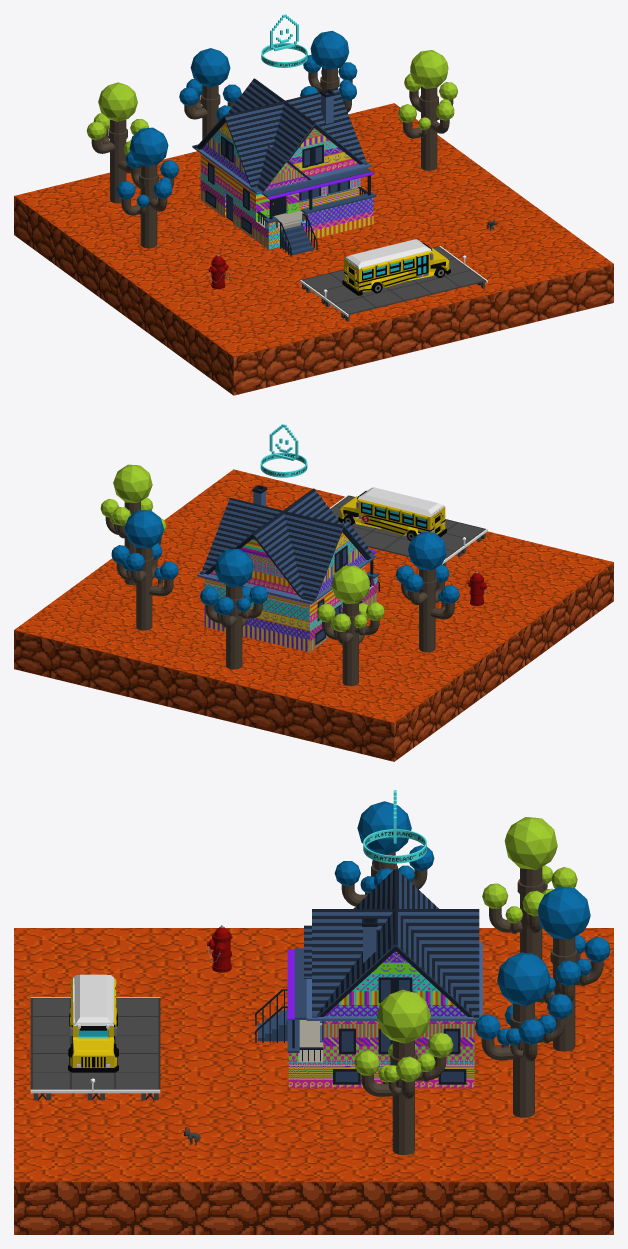
3 renders of one model, top to bottom at view 1: azimuth 30°, elevation 25°; view 2: azimuth 150°, elevation 25°; view 3: azimuth 270°, elevation 25°, orthographic. The views are drawn at different scales.
Visible parts, largest first — view 1: Cube.001, Cube.676, VEHICLES_SCHOOL_BUS, TYPE_PREMIUM; view 2: Cube.001, Cube.676, VEHICLES_SCHOOL_BUS, TYPE_PREMIUM, OBJRANDOM_FIRE_HYDRANT; view 3: Cube.001, Cube.676, VEHICLES_SCHOOL_BUS, TYPE_PREMIUM, OBJRANDOM_FIRE_HYDRANT.
Boxes of the visible parts, x1,y1,x2,y2 form: Cube.001: (14,30,613,395); Cube.676: (192,78,376,256); VEHICLES_SCHOOL_BUS: (342,239,450,295); TYPE_PREMIUM: (261,14,307,67); Cube.001: (14,464,613,761); Cube.676: (197,485,379,652); VEHICLES_SCHOOL_BUS: (338,487,446,540); TYPE_PREMIUM: (260,424,307,477); OBJRANDOM_FIRE_HYDRANT: (467,571,487,605); Cube.001: (14,801,613,1234); Cube.676: (255,869,482,1088); VEHICLES_SCHOOL_BUS: (68,974,118,1072); TYPE_PREMIUM: (363,790,426,863); OBJRANDOM_FIRE_HYDRANT: (207,925,231,972).
Size of the model in its own units: 4000 by 2388 by 4000.
43 materials, 9 textured.
